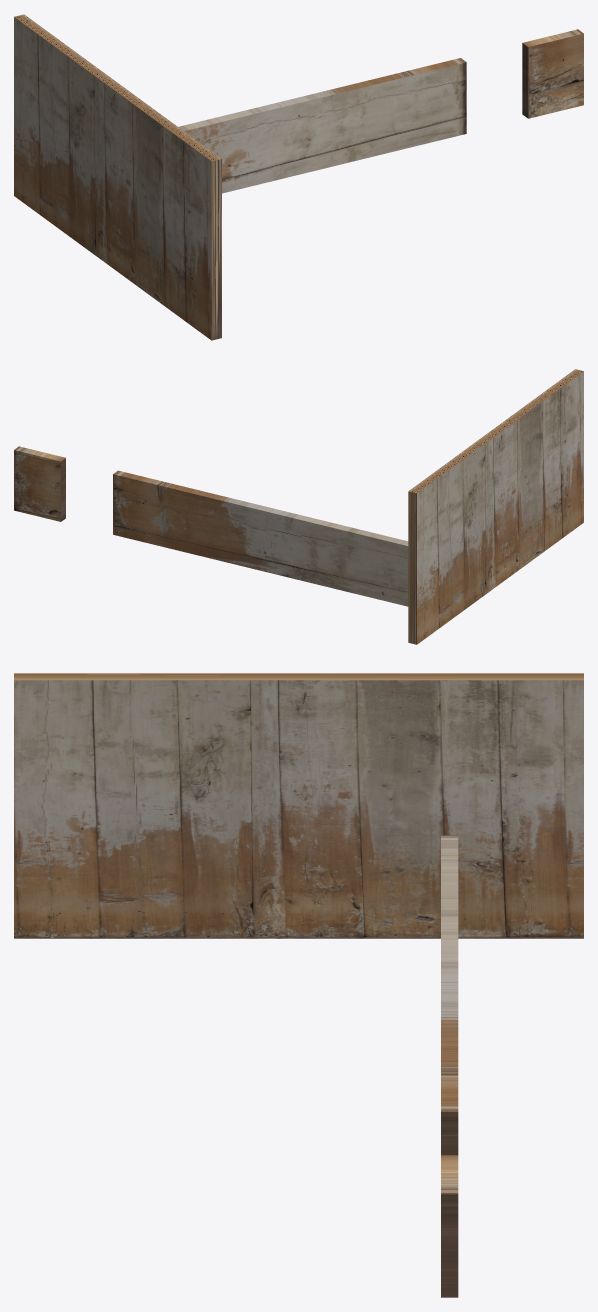
Rendered from turtlebot3_house_text.dae.
The picture shows the model from 3 angles, top to bottom: view 1: azimuth 30°, elevation 25°; view 2: azimuth 150°, elevation 25°; view 3: azimuth 270°, elevation 25°; orthographic projection. The views are drawn at different scales.
Visible parts, largest first — view 1: Wall_88; view 2: Wall_88; view 3: Wall_88.
Part boxes in pixels (x1,y1,x2,y2): Wall_88: (14, 14, 583, 340); Wall_88: (14, 369, 583, 644); Wall_88: (14, 673, 583, 1297).
Bounding box in the file's own units: 7.6 × 5 × 2.5.
1 material, 1 textured.
